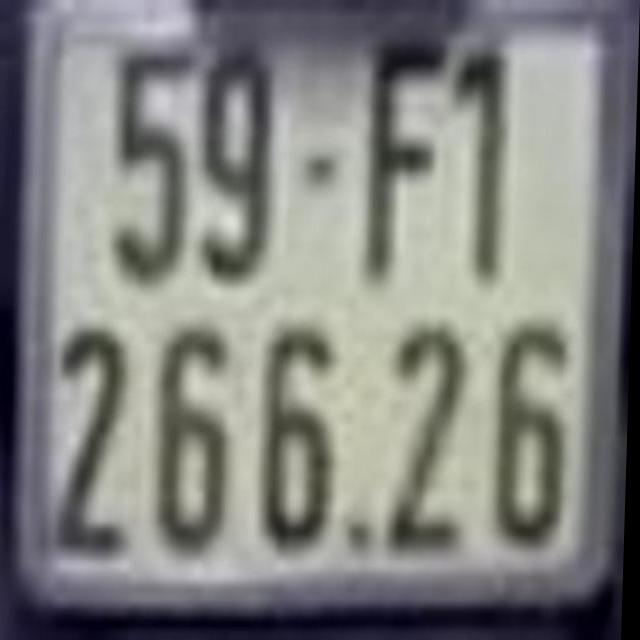1: (449, 50, 511, 285)
2: (391, 322, 472, 556), (58, 326, 137, 558)
5: (116, 52, 196, 284)
6: (264, 326, 343, 548), (498, 326, 576, 548), (158, 324, 233, 554)
9: (199, 47, 271, 280)
F: (366, 39, 447, 282)
